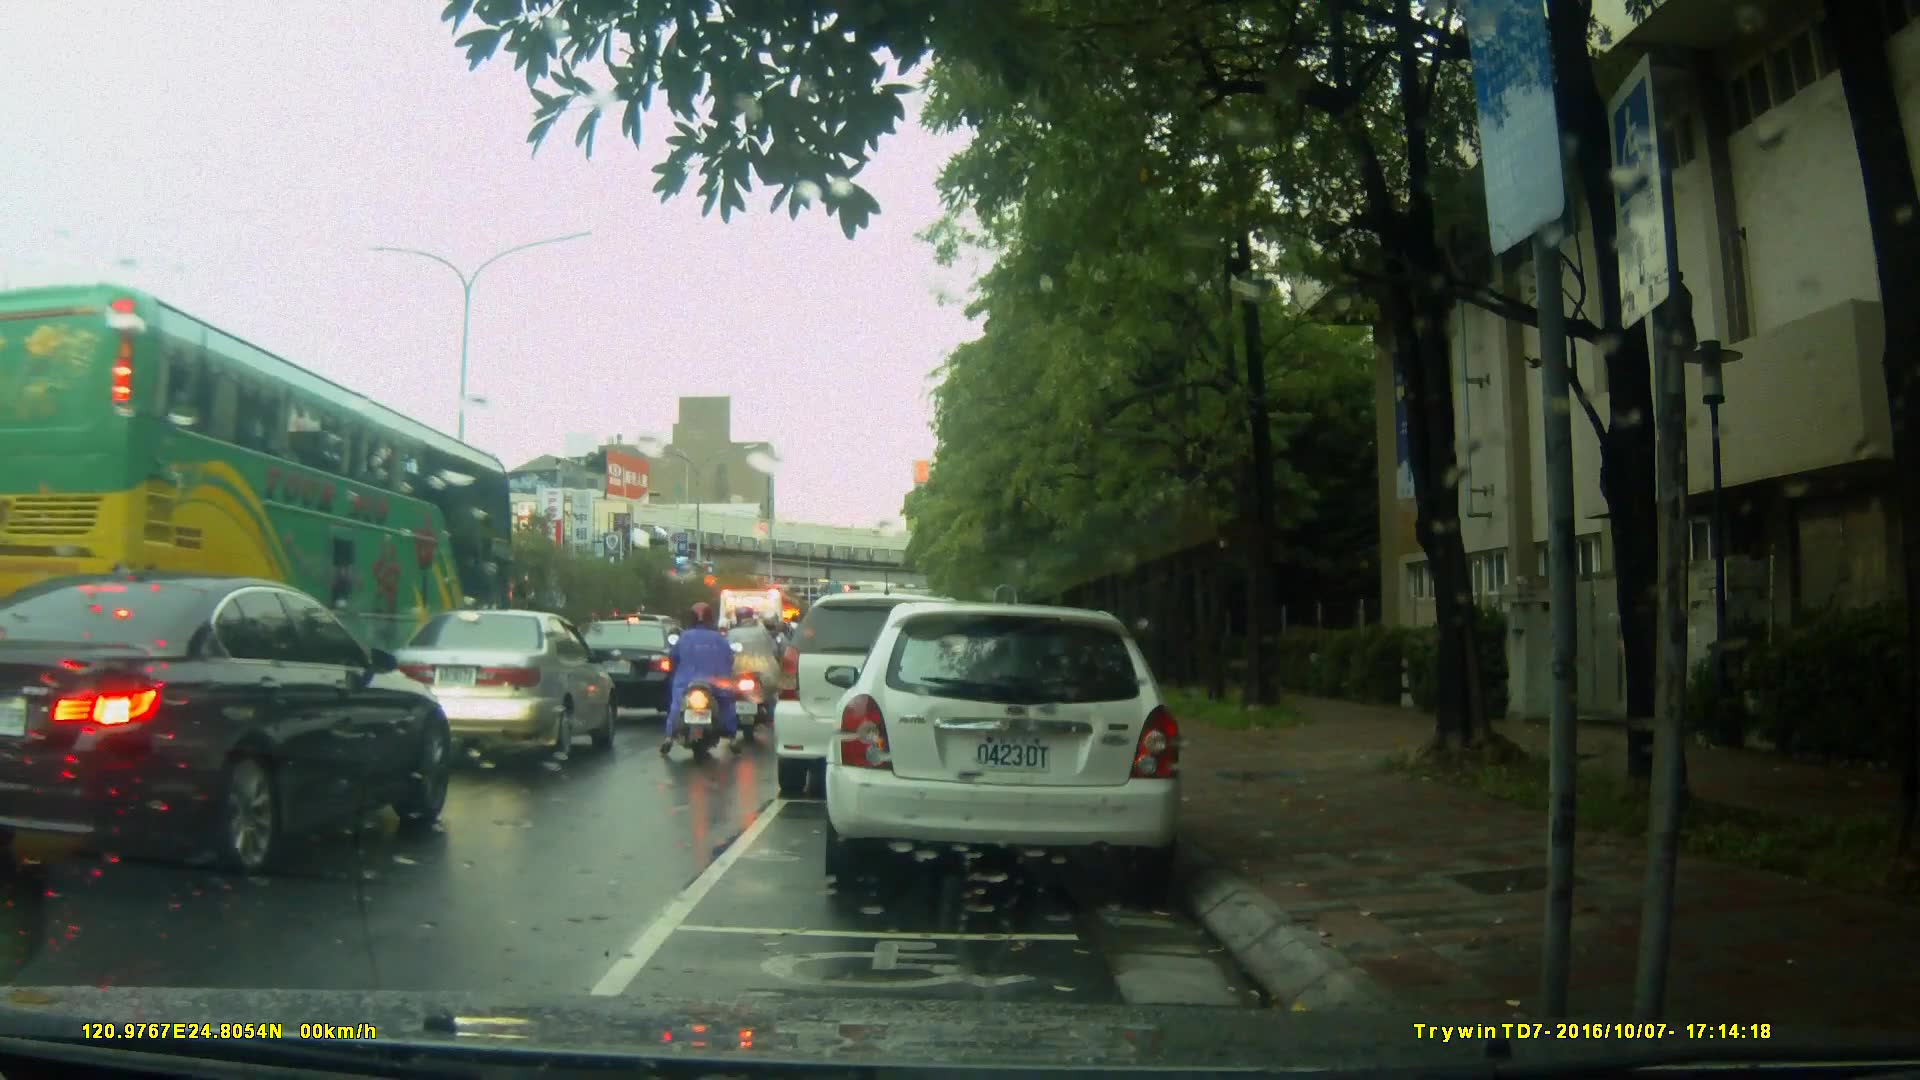rider: (664, 604, 731, 761), (734, 602, 787, 729)
vehicle: (1, 277, 519, 655), (9, 574, 453, 890), (831, 592, 1196, 897), (770, 592, 999, 798), (380, 610, 619, 772), (563, 619, 688, 723), (718, 585, 802, 706)
